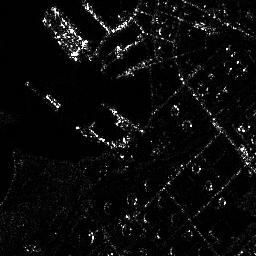ship: (50, 4, 88, 50), (41, 13, 77, 61), (24, 80, 62, 110)
